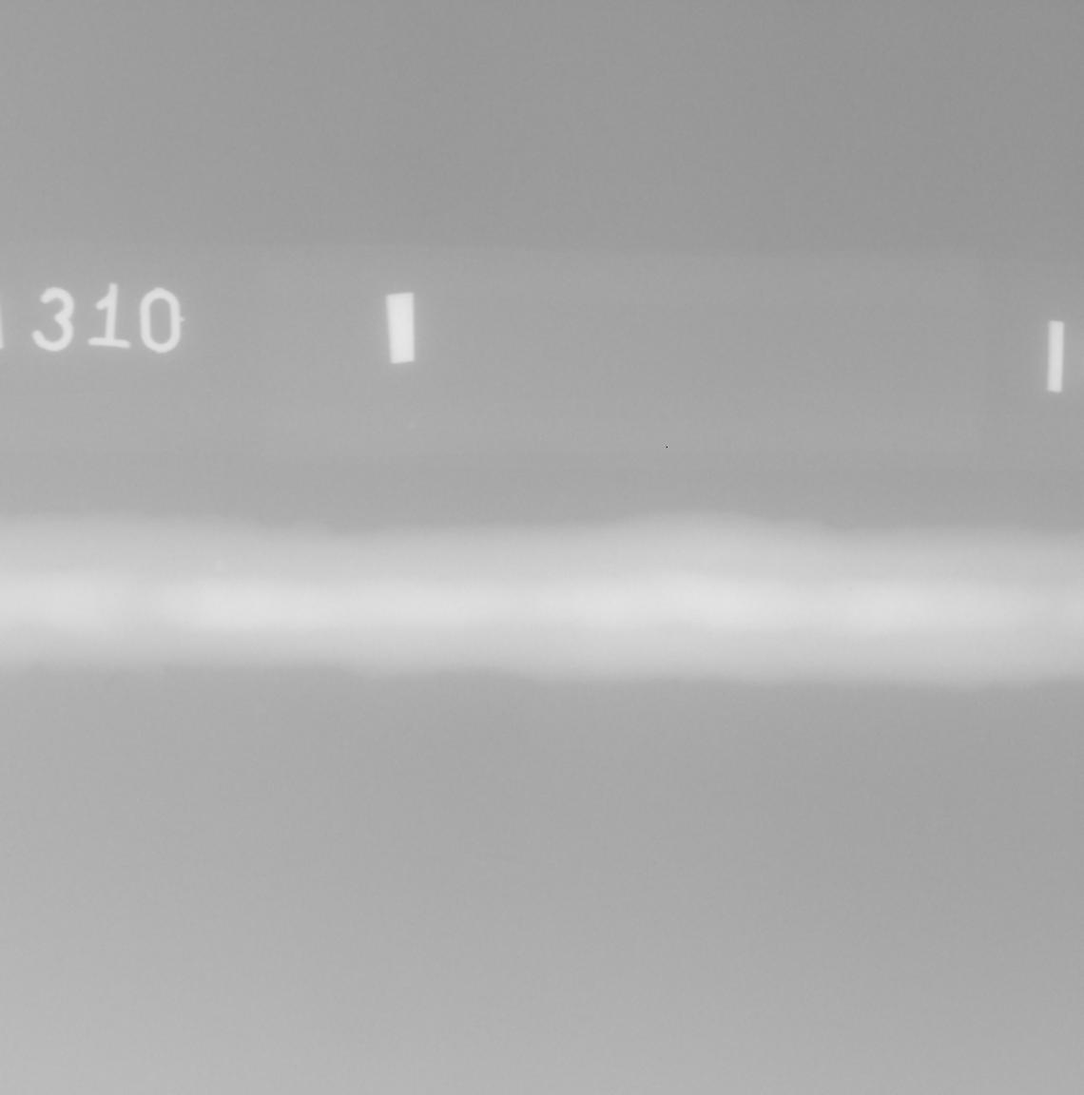Pore/Porosity: (848, 587, 853, 592)
